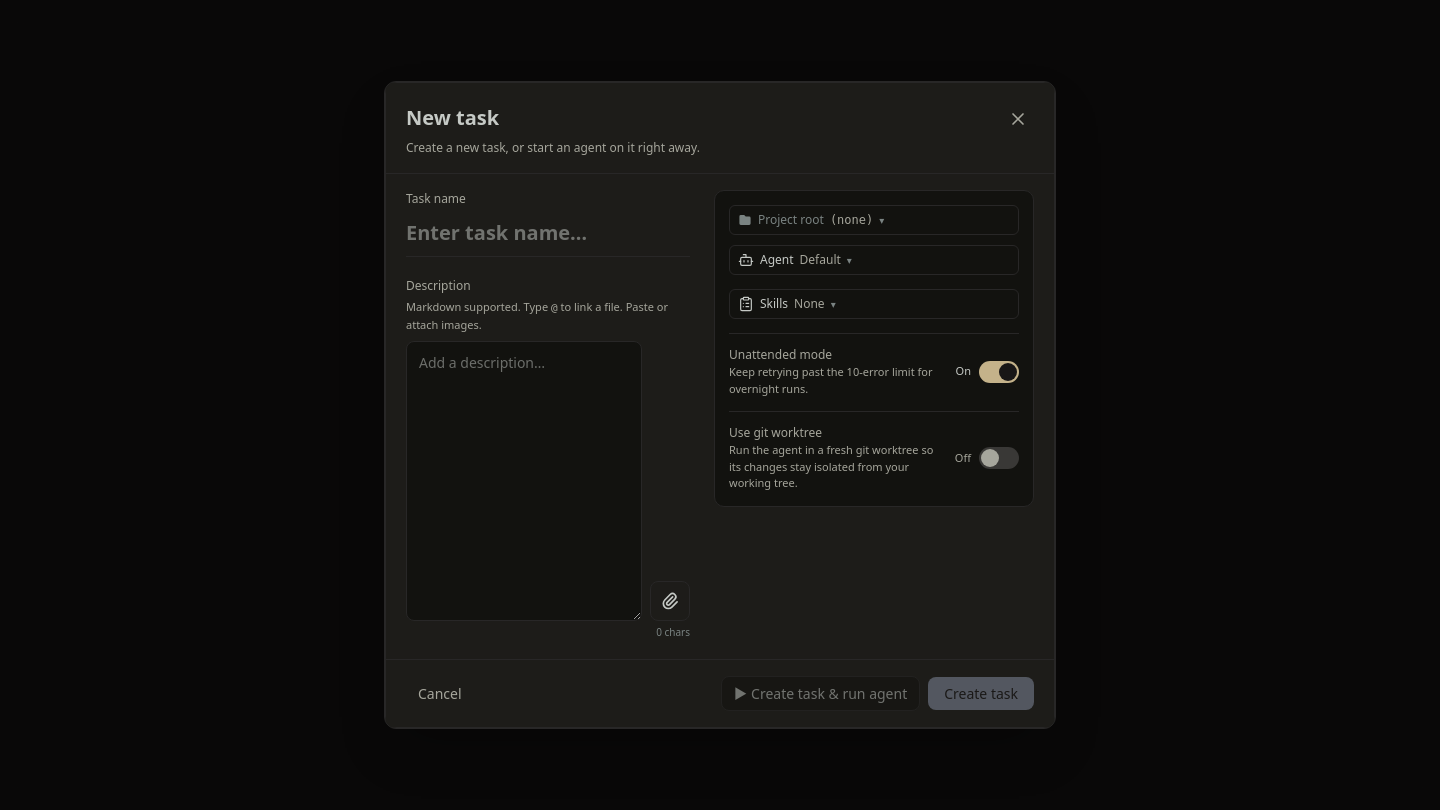
Test: KanbanTaskDetailDialog — Use git worktree toggle › renders the base-branch picker only while the worktree toggle is ON
Click the checkbox with test id "kanban-task-detail-use-git-worktree-toggle". click: (987, 458)
box: [955,447,1019,469]
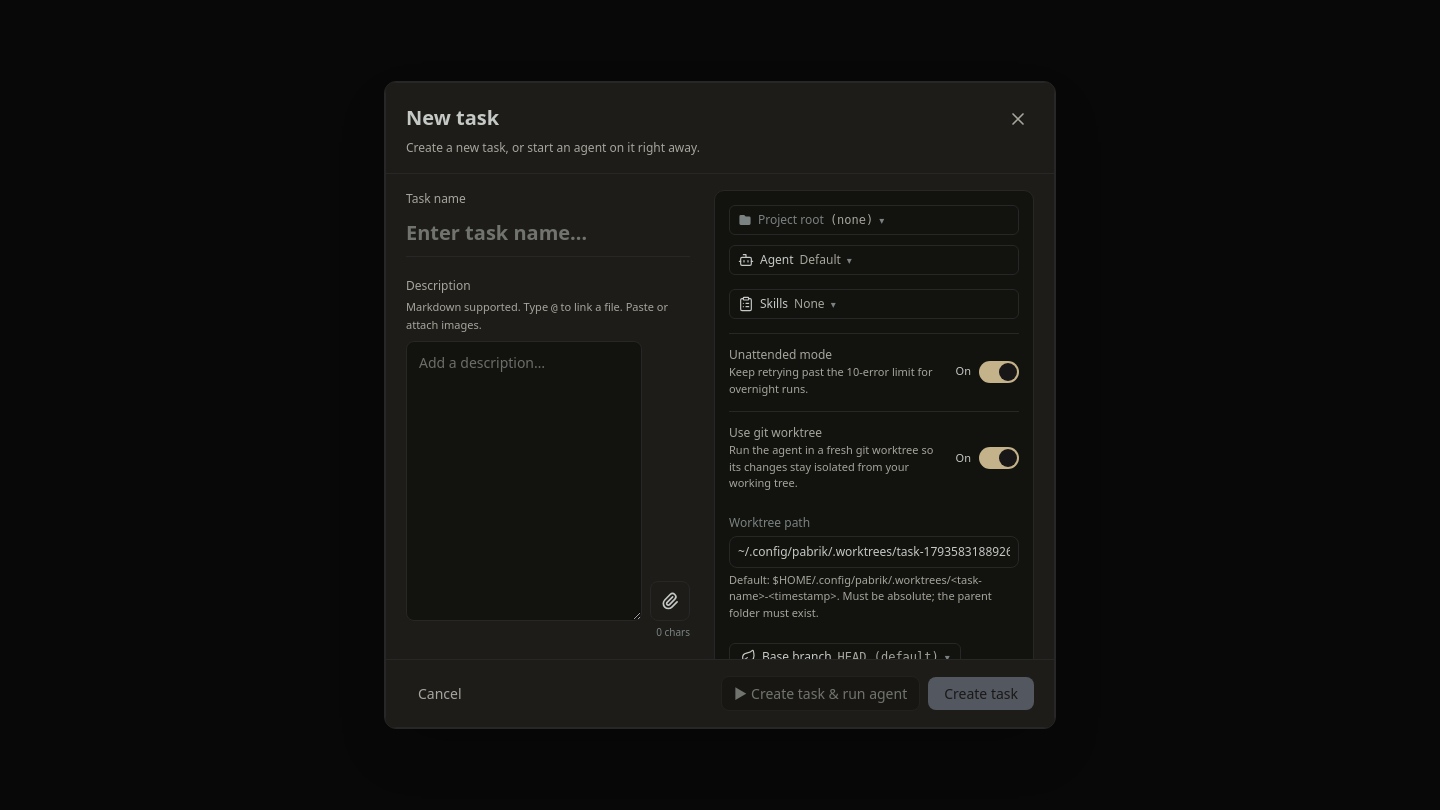
Expected: the field with test id "kanban-task-detail-use-git-worktree-path" is shown, [729,536,1019,568]
